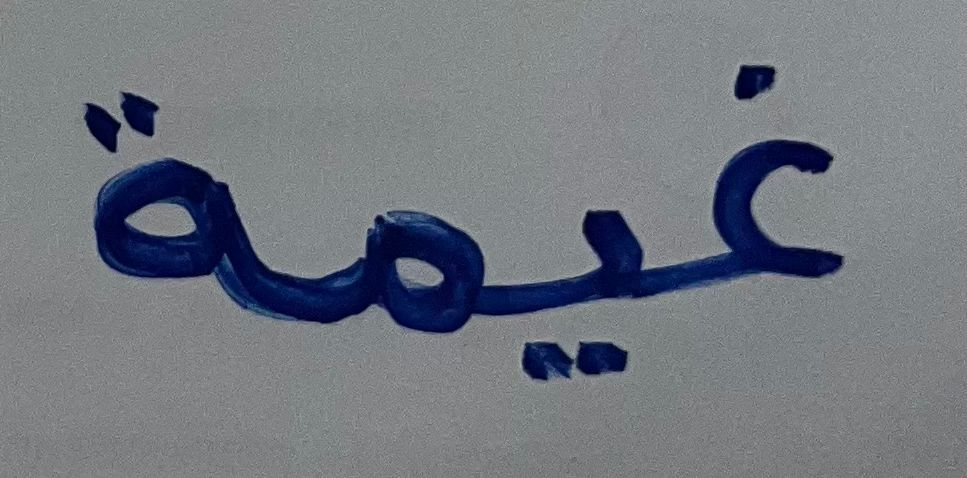ain: (667, 27, 878, 310)
sad: (297, 172, 504, 388)
teh_marbota: (40, 81, 287, 357)
yeh: (510, 162, 658, 399)
